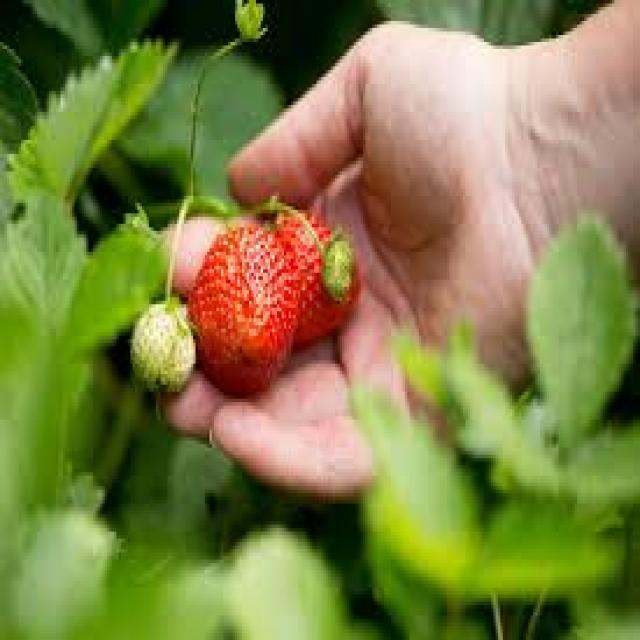strawberry: (182, 205, 303, 406)
